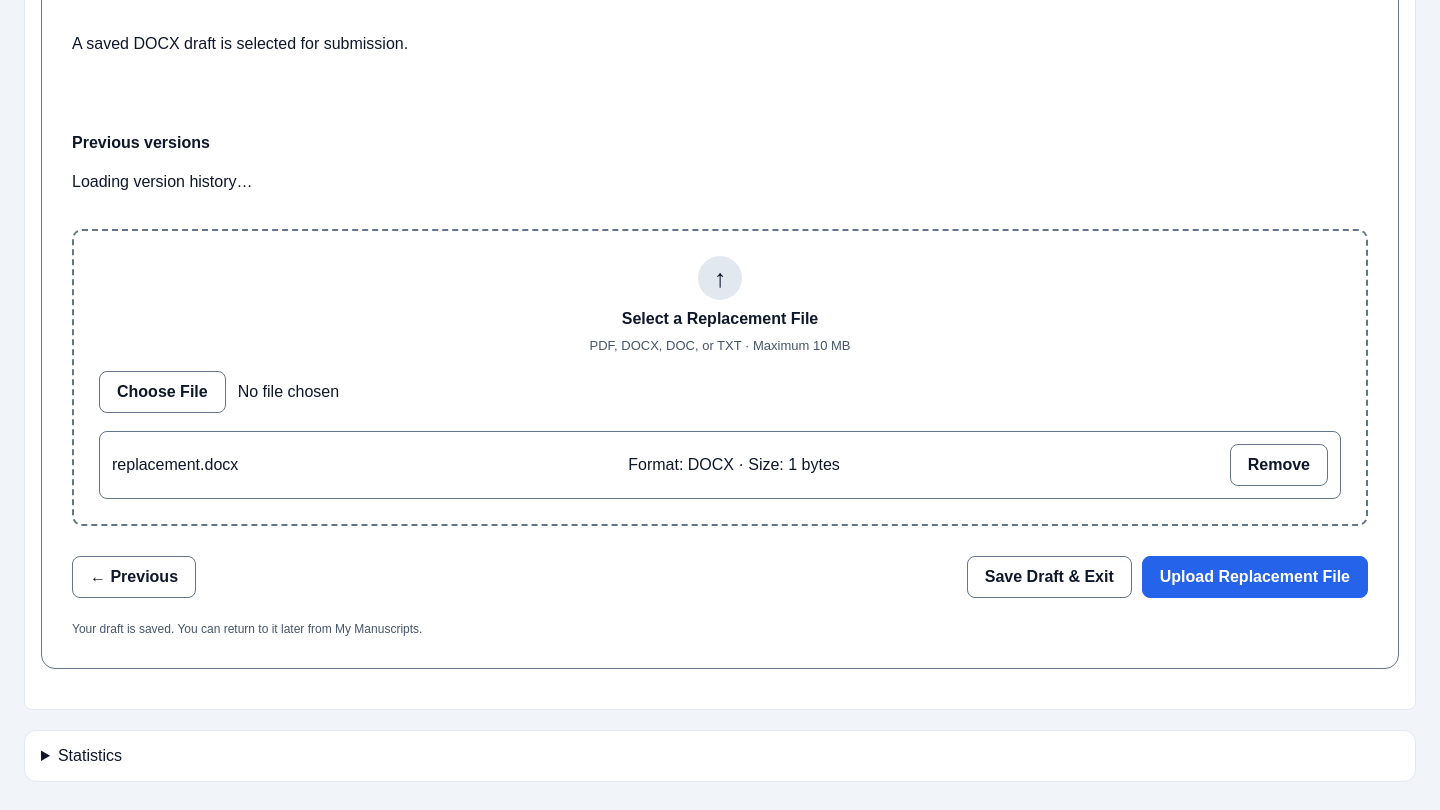
Test case: rejects artificial conflicting selections before draft_upload workflow requests
The width and height of the screenshot is (1440, 810).
Earlier steps of the test are not shown.
(page scrolled)
Click the button "Upload Replacement File" at coordinates (1255, 577), box [1142, 556, 1368, 598]
(page scrolled)
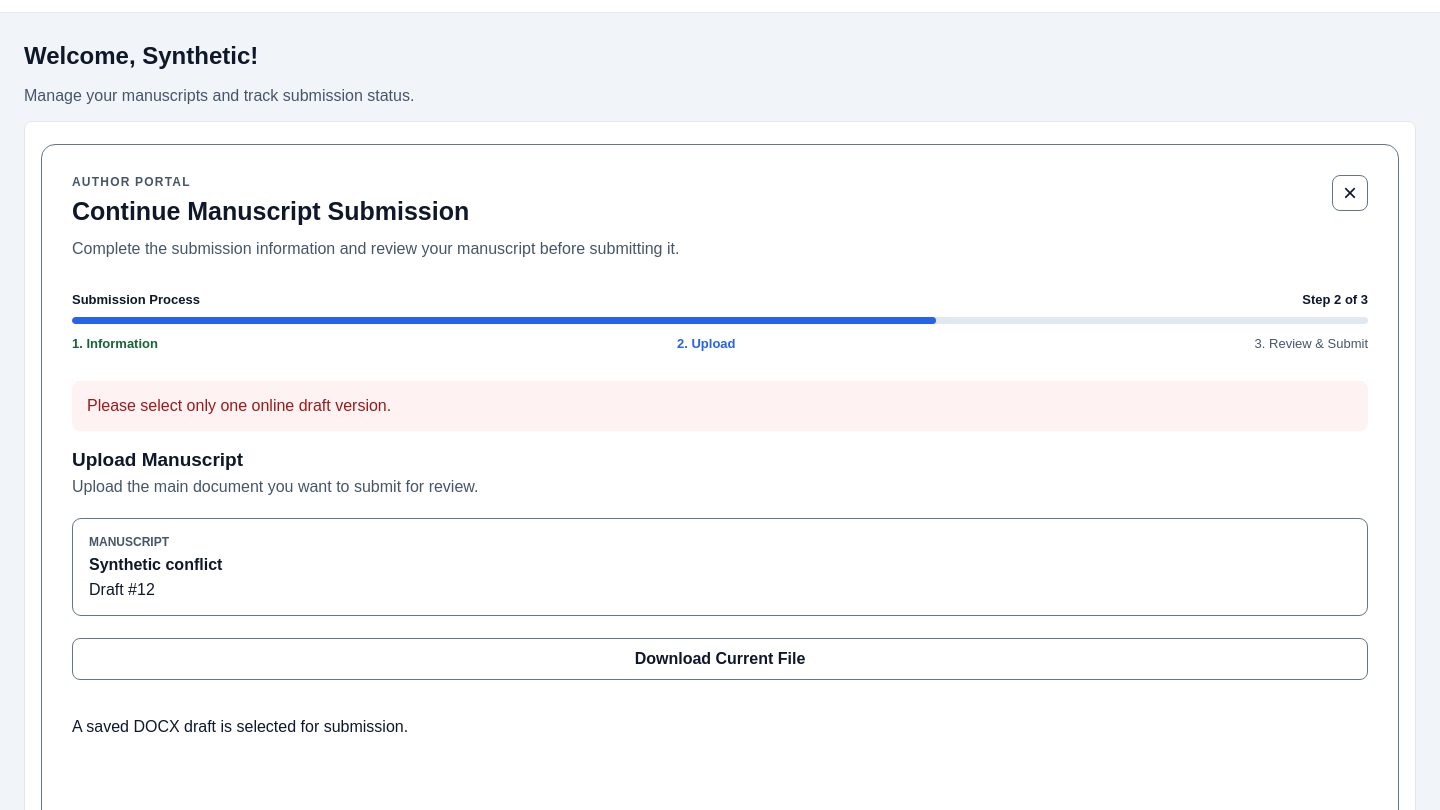
Now the text "Please select only one online draft version." is shown, box [72, 381, 1368, 431]
